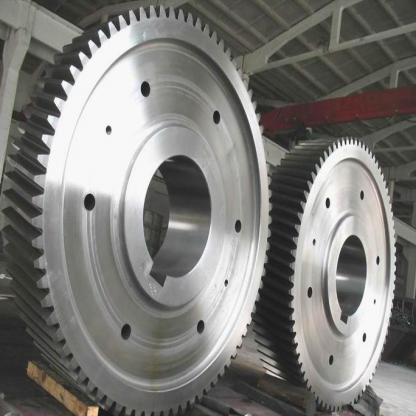FOD: (0, 4, 276, 415), (252, 131, 400, 415)
